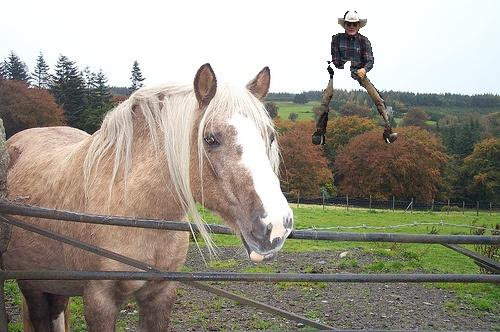tampered: (313, 12, 397, 145)
